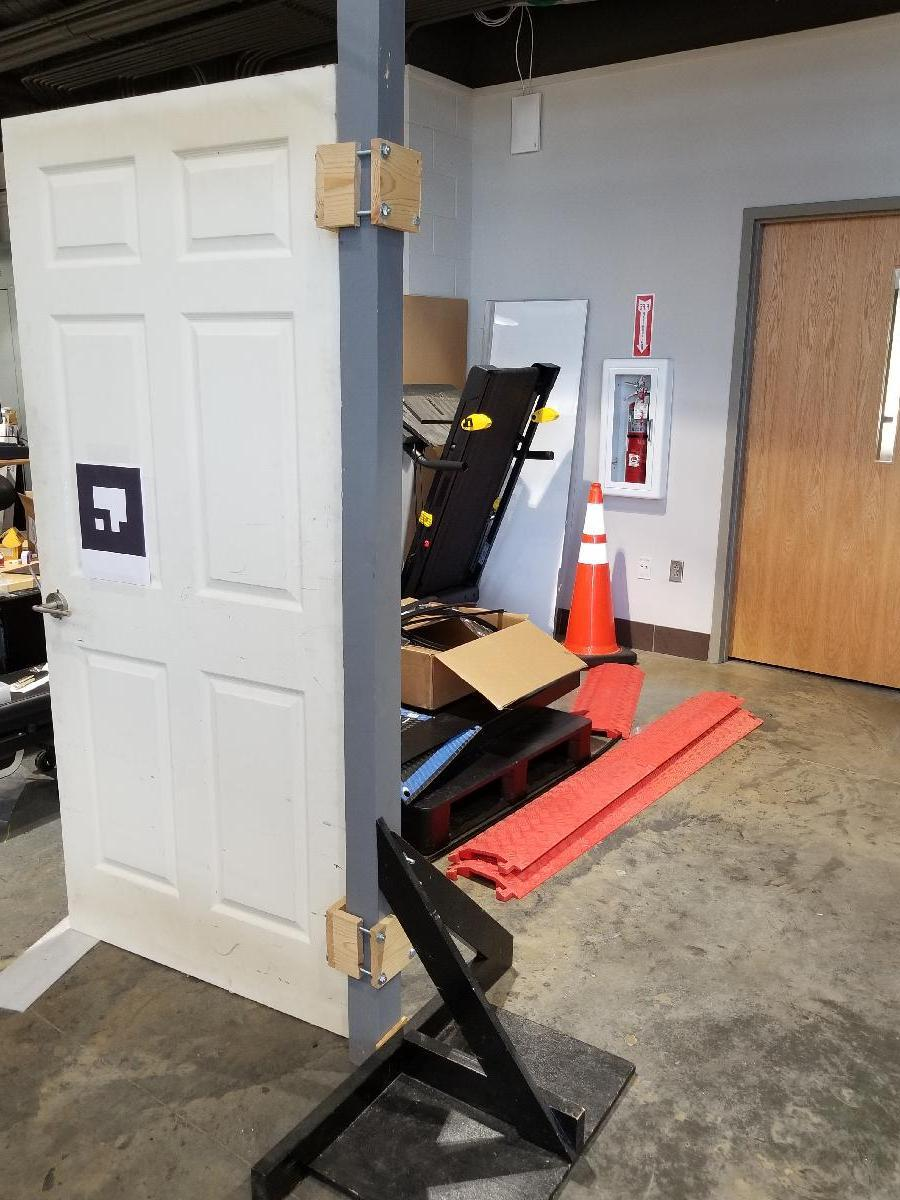door: (7, 68, 353, 1039), (743, 205, 900, 668)
handle: (32, 589, 74, 625)
